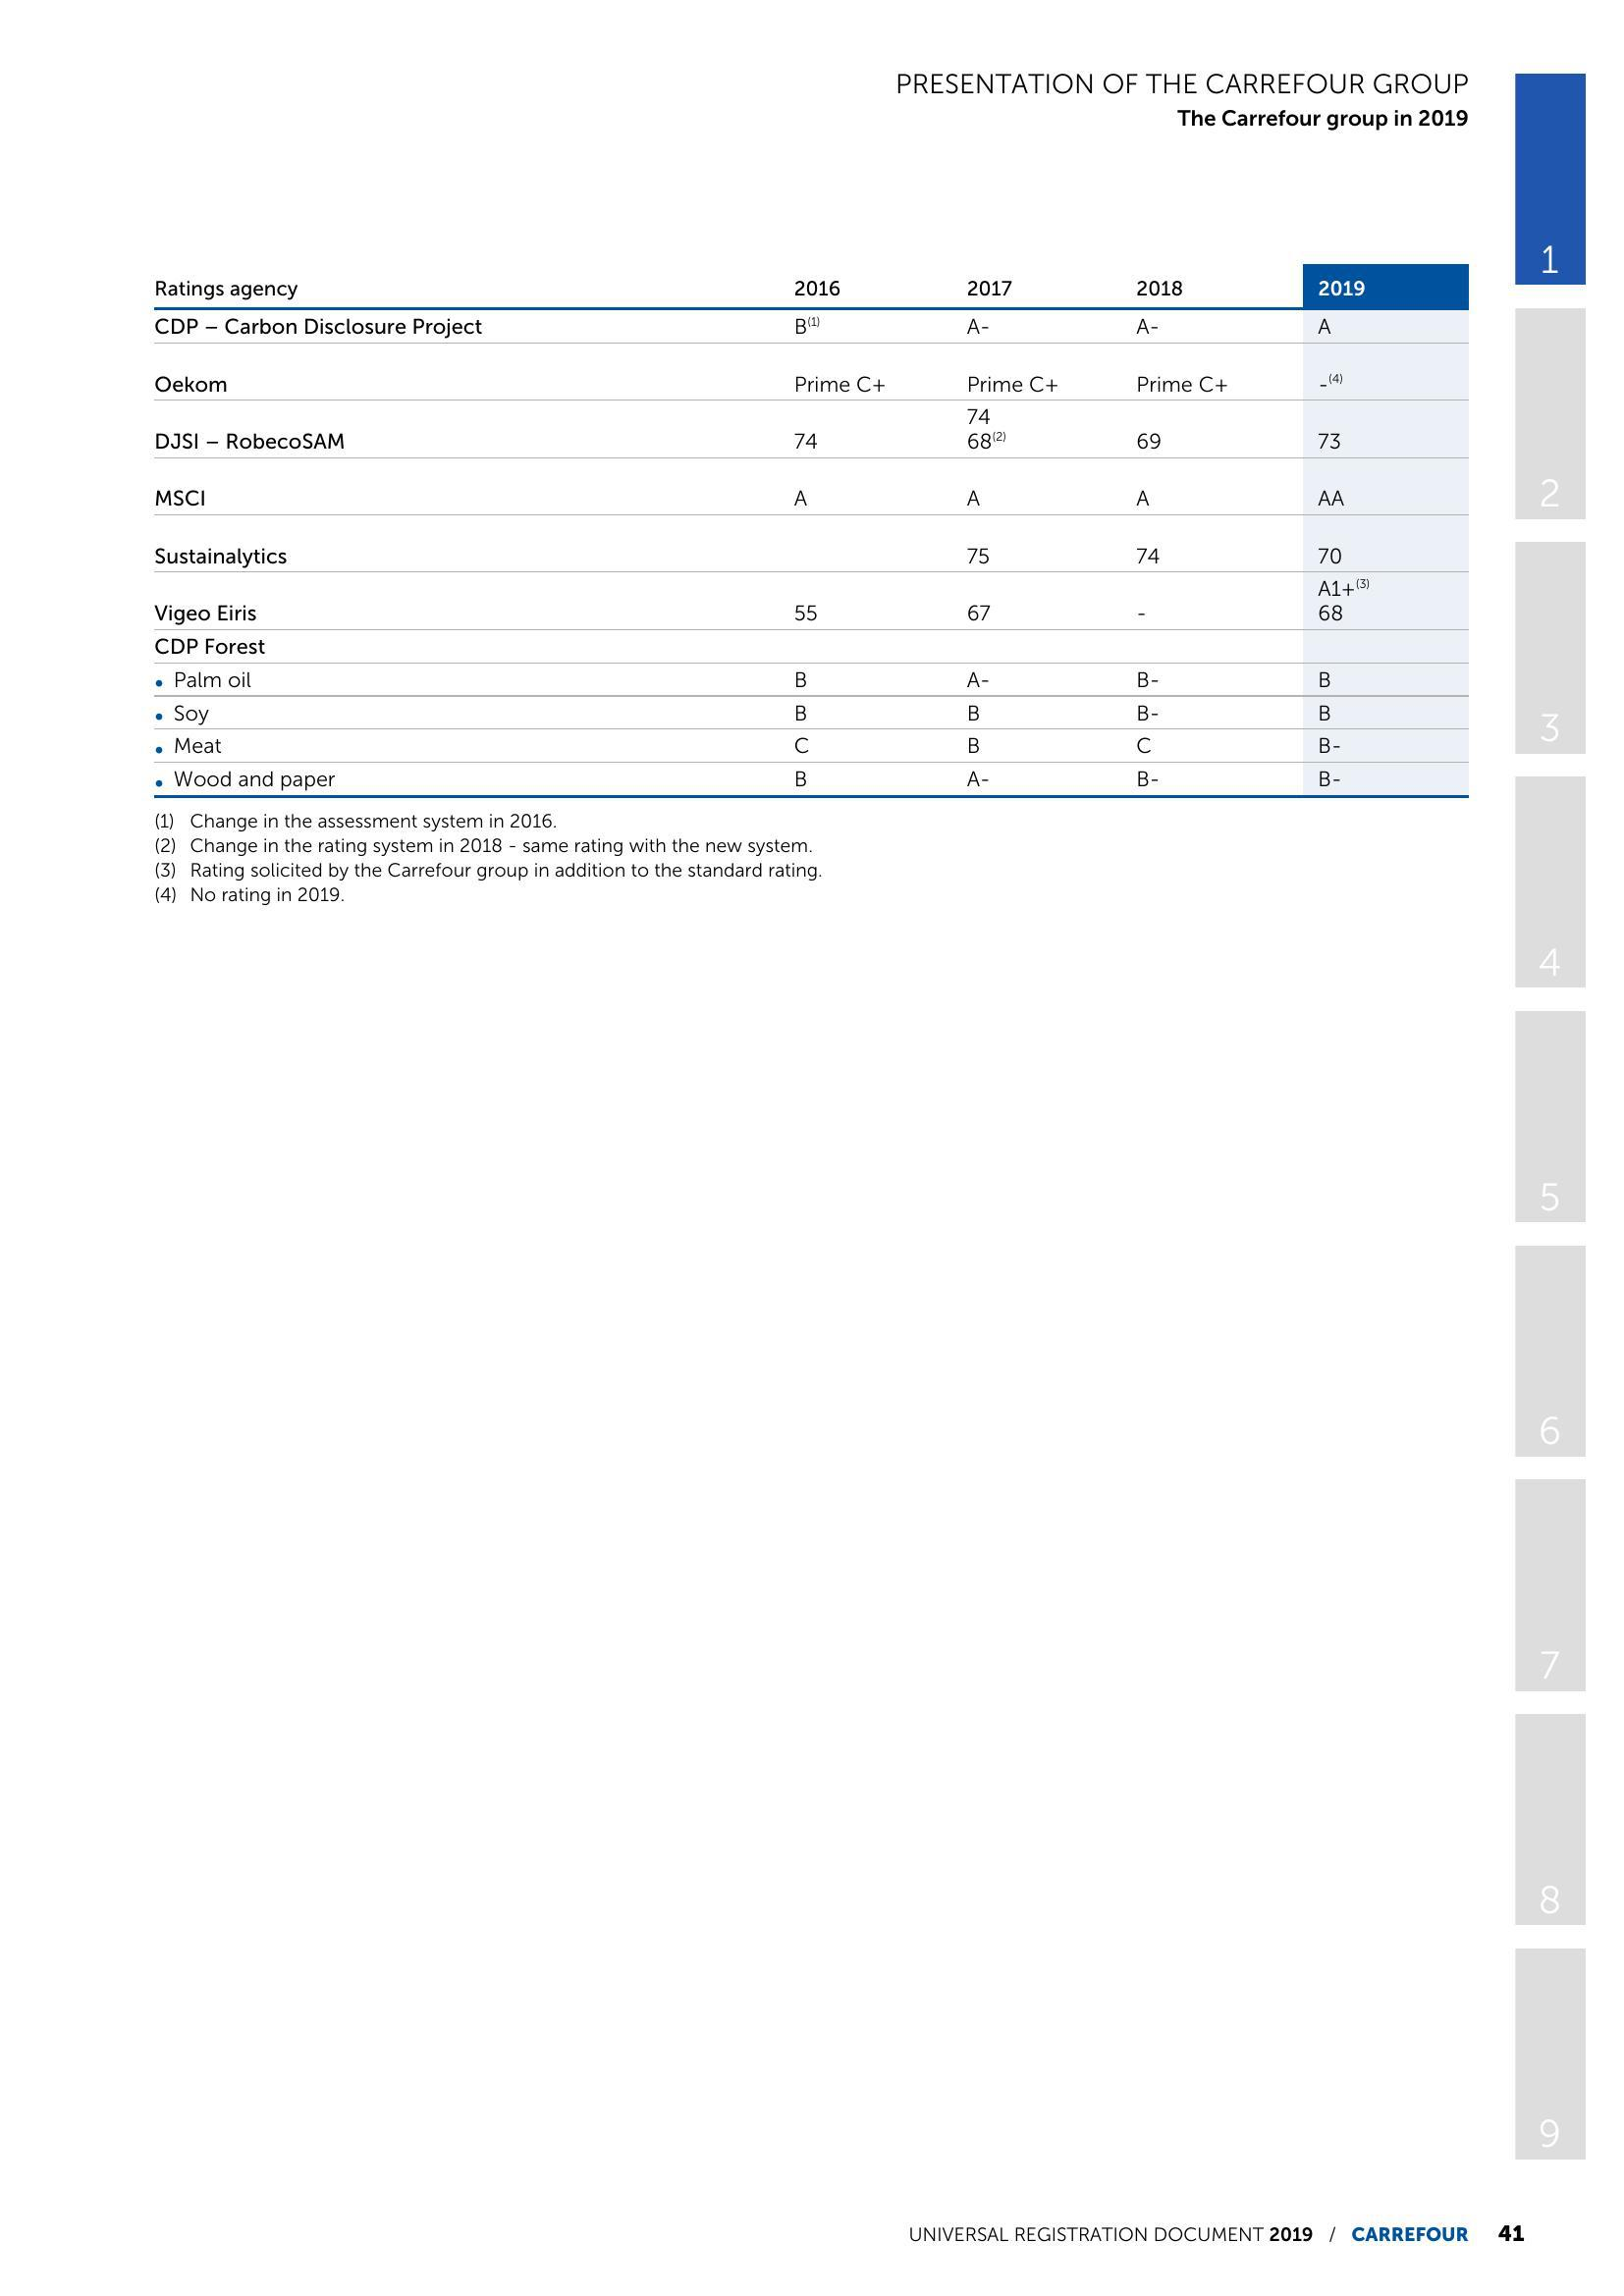cell: (142, 343, 756, 402), (142, 515, 756, 574), (142, 402, 756, 458), (142, 458, 756, 515), (142, 574, 756, 631), (142, 265, 756, 307), (142, 307, 756, 343), (142, 631, 756, 664), (142, 696, 756, 729), (142, 729, 756, 762), (142, 762, 756, 796), (142, 664, 756, 696), (1098, 343, 1299, 402), (1098, 515, 1299, 574), (1098, 402, 1299, 458), (1098, 458, 1299, 515), (1098, 574, 1299, 631), (756, 343, 942, 402), (756, 515, 942, 574), (1299, 343, 1475, 402), (1299, 515, 1475, 574), (756, 402, 942, 458), (756, 458, 942, 515), (756, 574, 942, 631), (1299, 402, 1475, 458), (1299, 458, 1475, 515), (1299, 574, 1475, 631), (942, 343, 1098, 402), (942, 515, 1098, 574), (942, 402, 1098, 458), (942, 458, 1098, 515), (942, 574, 1098, 631), (1098, 265, 1299, 307), (756, 265, 942, 307), (1299, 265, 1475, 307), (1098, 307, 1299, 343), (1098, 631, 1299, 664), (1098, 696, 1299, 729), (1098, 729, 1299, 762), (1098, 762, 1299, 796), (942, 265, 1098, 307), (756, 307, 942, 343), (1098, 664, 1299, 696), (756, 631, 942, 664), (756, 696, 942, 729), (756, 729, 942, 762), (756, 762, 942, 796), (1299, 307, 1475, 343), (756, 664, 942, 696), (1299, 631, 1475, 664), (1299, 696, 1475, 729), (1299, 729, 1475, 762), (1299, 762, 1475, 796), (1299, 664, 1475, 696), (942, 307, 1098, 343), (942, 631, 1098, 664), (942, 696, 1098, 729), (942, 729, 1098, 762), (942, 762, 1098, 796), (942, 664, 1098, 696)
table: (142, 265, 1475, 796)
